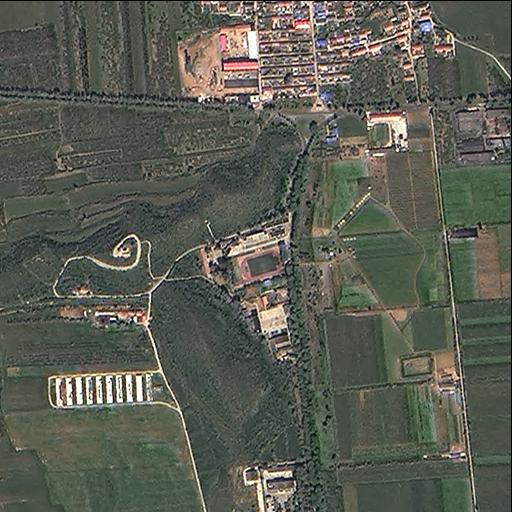school: (221, 216, 293, 290)
